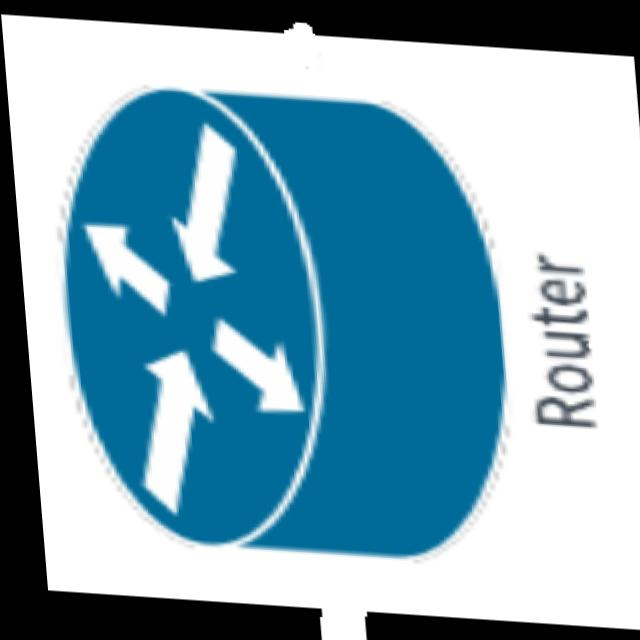Router: (21, 38, 531, 593)
